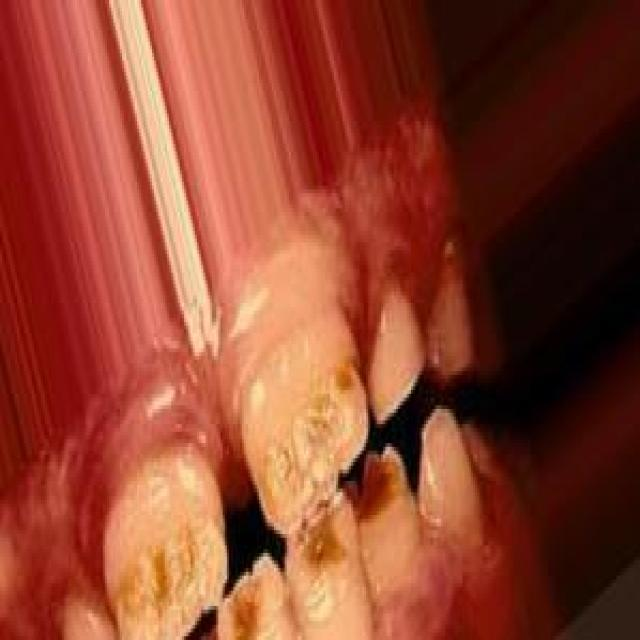caries: (252, 358, 372, 532), (108, 506, 222, 640), (221, 542, 284, 640)
